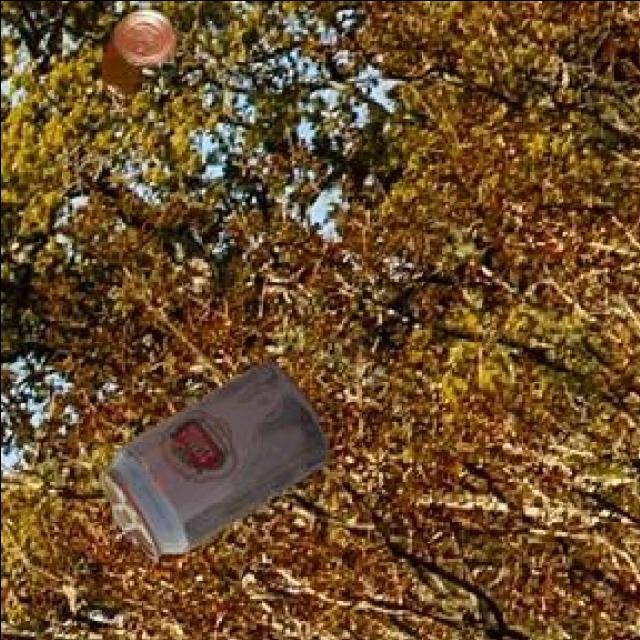logam: (97, 357, 323, 554), (97, 8, 170, 94)
